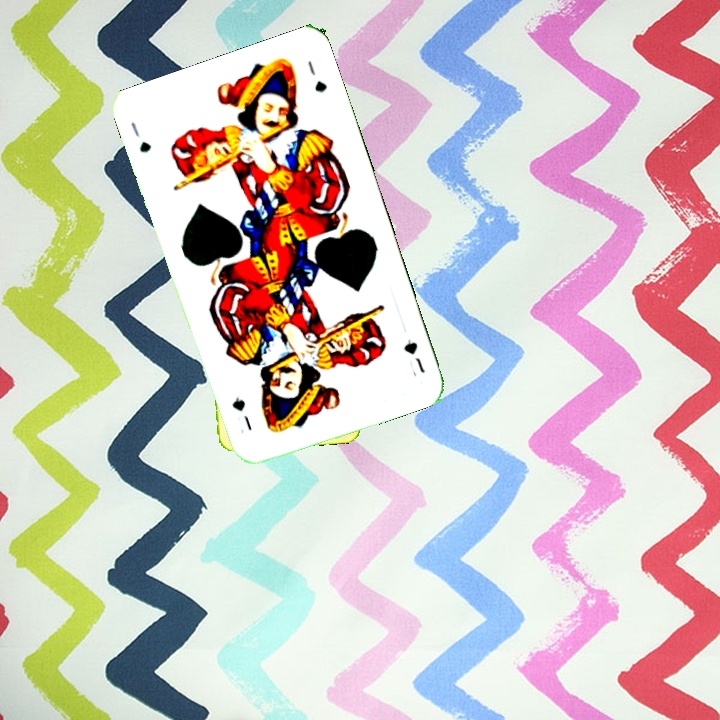GU: (400, 335, 428, 380), (126, 118, 154, 155)
